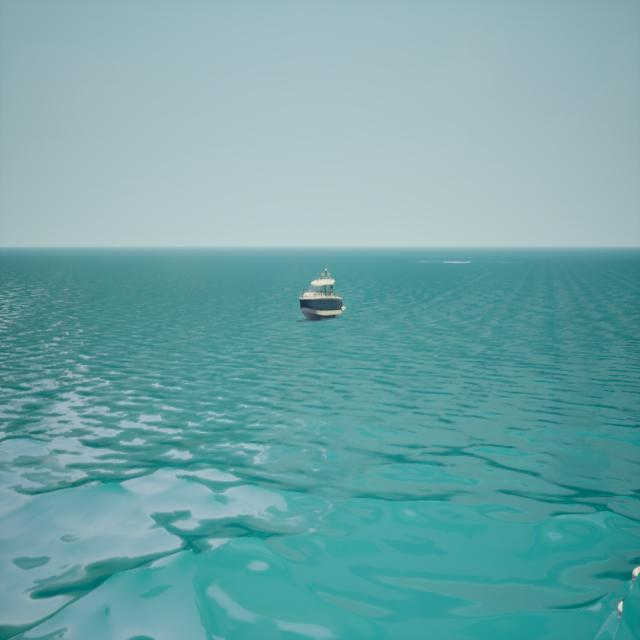ship: (298, 266, 345, 318)
